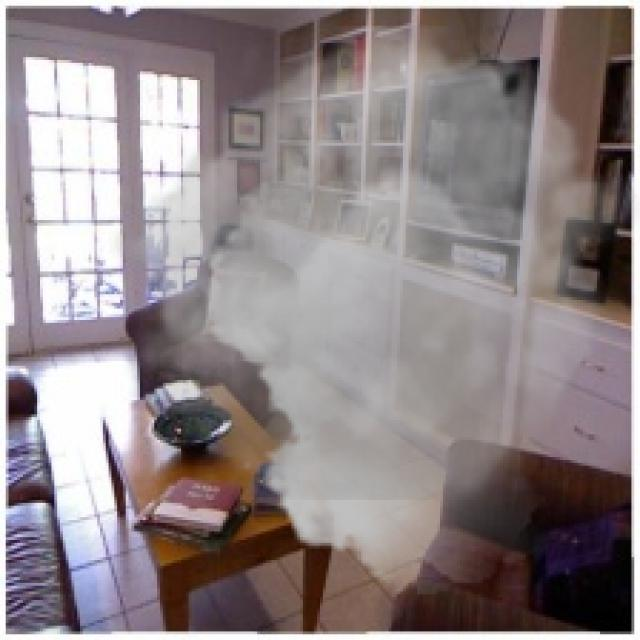Smoke: (108, 25, 638, 598)
